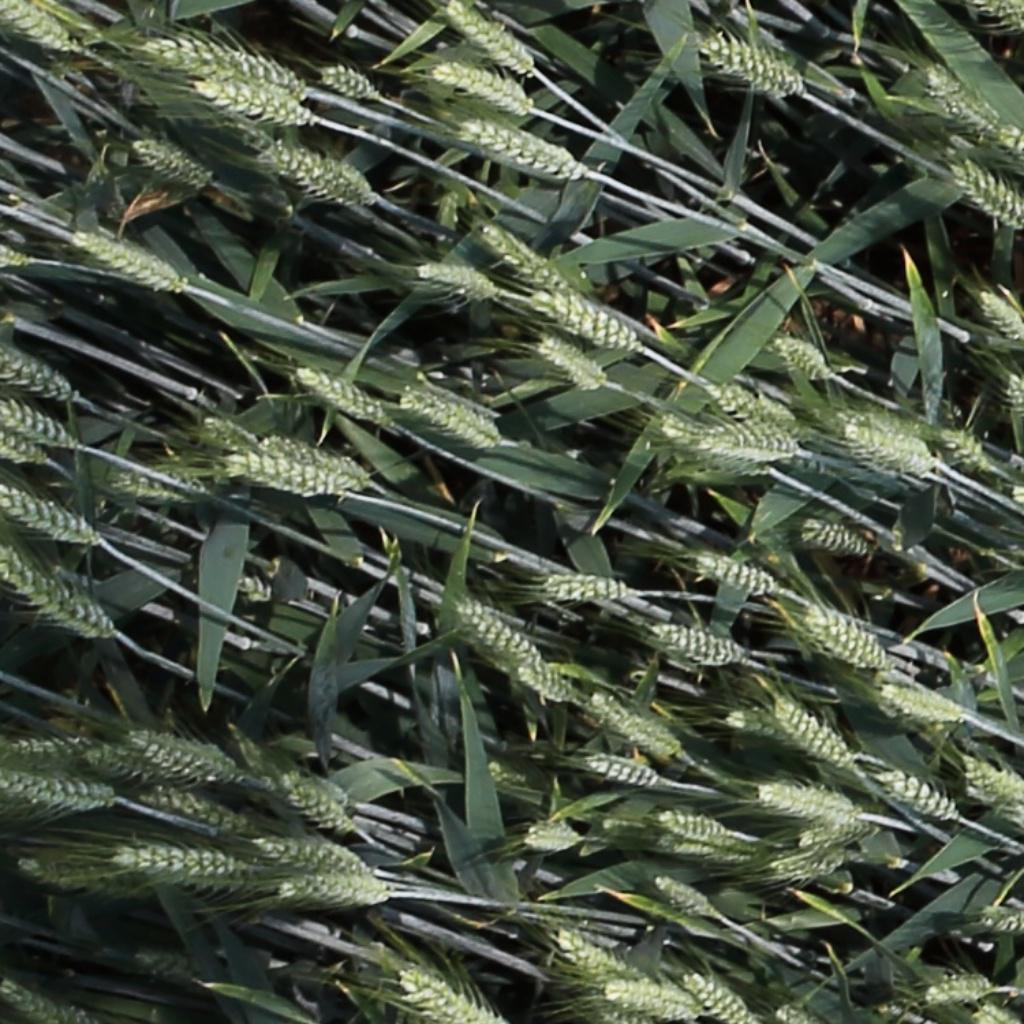0-0: (19, 841, 174, 914), (0, 548, 114, 641), (139, 34, 303, 94), (458, 118, 589, 185), (443, 2, 543, 79), (262, 139, 378, 205), (70, 229, 188, 292), (189, 75, 318, 132), (477, 222, 573, 296), (699, 38, 809, 99), (450, 600, 543, 671), (109, 844, 259, 887), (0, 486, 105, 546), (531, 290, 636, 350), (398, 387, 501, 447), (400, 969, 512, 1024), (662, 423, 798, 468), (771, 697, 853, 771), (431, 61, 537, 117), (256, 436, 371, 487), (133, 943, 246, 994), (125, 730, 233, 783), (804, 607, 890, 673), (585, 696, 678, 757), (922, 62, 1004, 131), (251, 829, 368, 877), (705, 379, 797, 440), (948, 158, 1024, 230), (293, 365, 385, 424), (843, 415, 935, 474), (228, 456, 348, 499), (140, 787, 245, 835), (547, 931, 638, 985), (648, 623, 745, 670), (653, 807, 749, 854), (128, 137, 213, 190), (690, 549, 779, 599), (0, 728, 98, 772), (86, 735, 167, 788), (0, 773, 121, 808), (274, 873, 395, 908), (723, 695, 806, 746), (875, 771, 959, 821), (535, 338, 614, 390), (278, 775, 349, 832), (0, 345, 73, 400), (678, 972, 755, 1024), (2, 1, 76, 54), (114, 463, 218, 499), (757, 782, 855, 820), (0, 402, 79, 449), (2, 980, 80, 1024), (600, 983, 699, 1017), (960, 755, 1024, 806), (877, 686, 965, 723), (795, 516, 872, 556), (582, 755, 670, 790), (974, 285, 1024, 345), (649, 876, 716, 920), (771, 333, 830, 379), (539, 573, 631, 601), (415, 260, 492, 293), (316, 65, 381, 104), (942, 422, 991, 473), (673, 455, 783, 477), (514, 664, 574, 704), (196, 416, 258, 453), (521, 819, 586, 854), (924, 972, 990, 1006), (780, 850, 847, 882), (797, 821, 871, 849), (0, 425, 47, 465), (993, 122, 1024, 177), (977, 900, 1024, 932), (989, 0, 1024, 38), (598, 1002, 649, 1024), (1006, 372, 1024, 430), (976, 1003, 1015, 1024), (772, 1004, 809, 1024)
